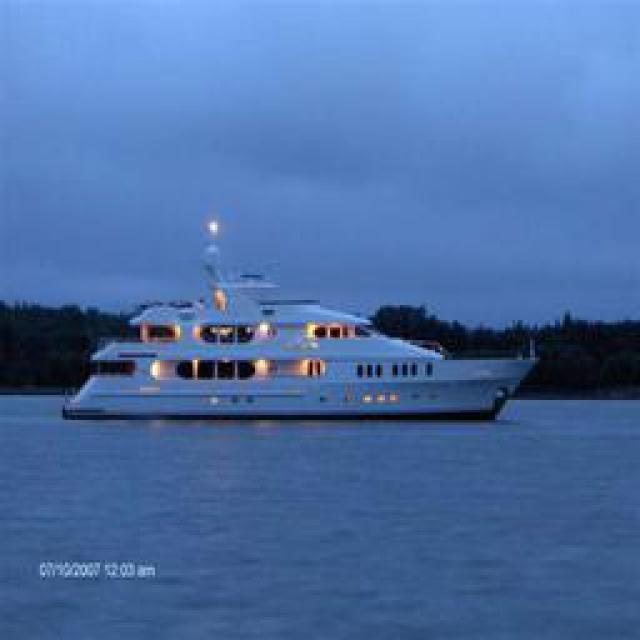Ship: (66, 235, 536, 425)
